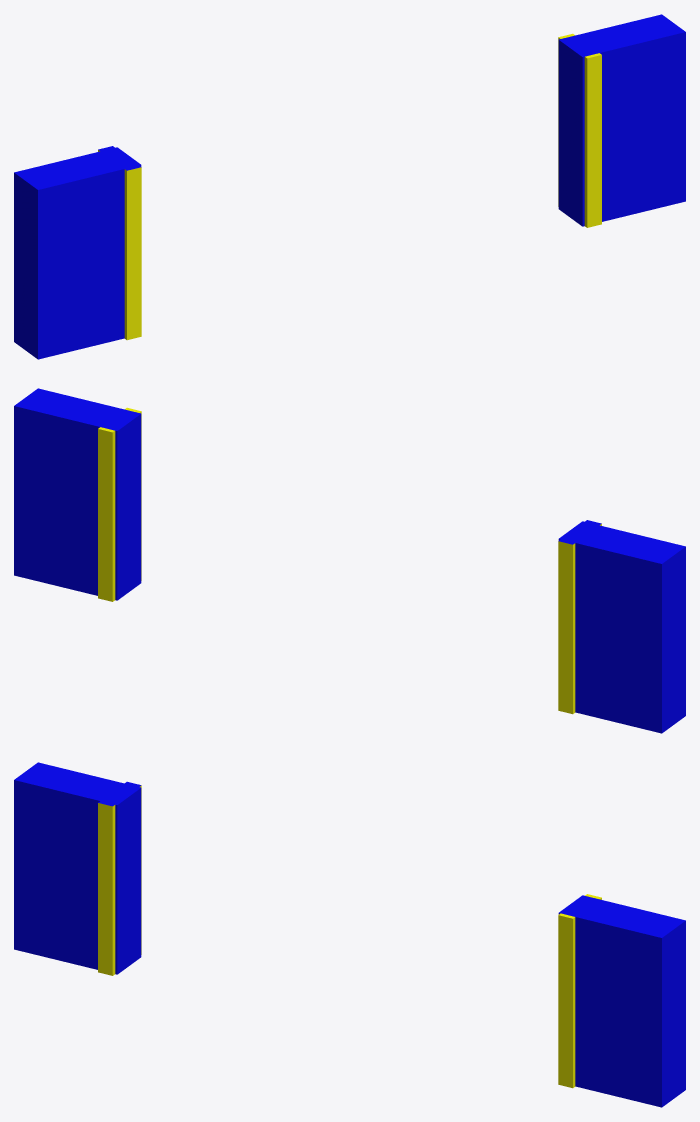
File: ARCH_BOT_16M.fbx
3 renders of one model, top to bottom at view 1: azimuth 30°, elevation 25°; view 2: azimuth 150°, elevation 25°; view 3: azimuth 330°, elevation 25°, orthographic.
Visible parts, largest first — view 1: ARCH_BOT_16M; view 2: ARCH_BOT_16M; view 3: ARCH_BOT_16M.
Boxes of the visible parts, <box> form: ARCH_BOT_16M: <box>14,14,685,359</box>; ARCH_BOT_16M: <box>14,388,685,733</box>; ARCH_BOT_16M: <box>14,762,685,1107</box>.
Bounding box in the file's own units: 1600 × 400 × 124.
